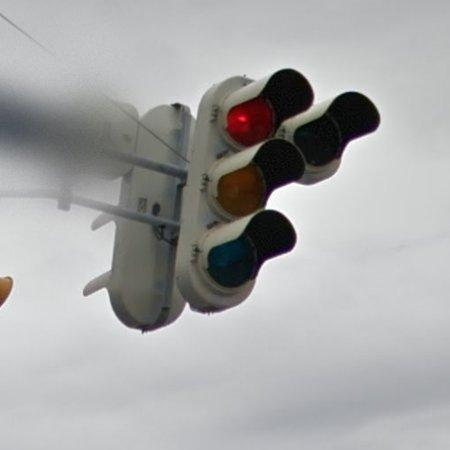traffic lights: (176, 69, 316, 305), (82, 86, 202, 343), (286, 86, 383, 186)
